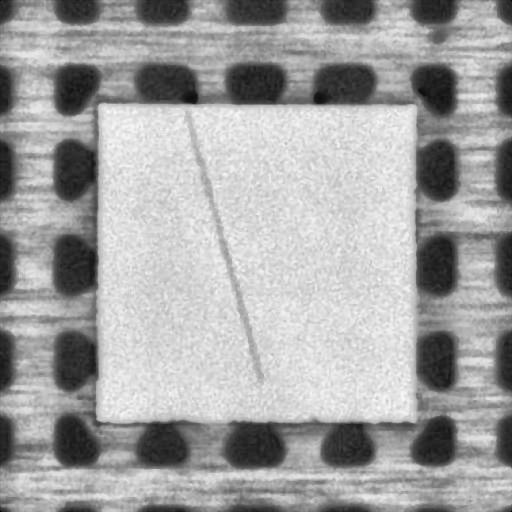DIE_CRACK: (185, 112, 259, 378)
